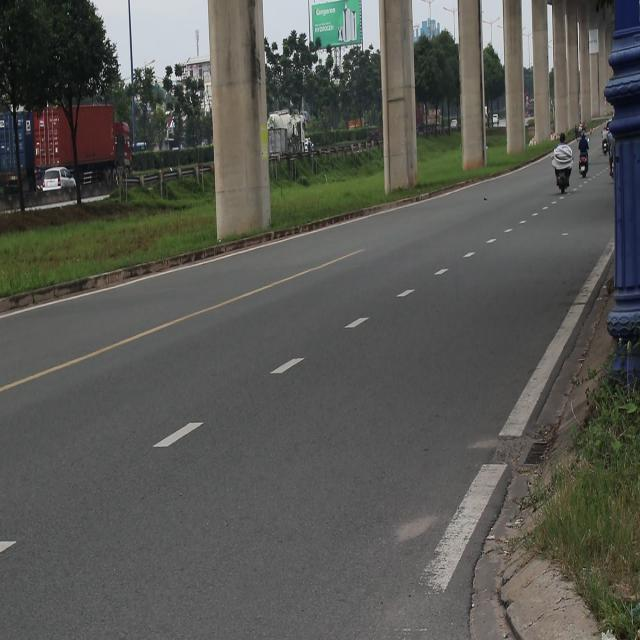car: (41, 167, 77, 190)
motorbike: (552, 168, 573, 202), (608, 148, 620, 188), (600, 125, 610, 154), (580, 150, 589, 177)
truck: (0, 103, 134, 205)
